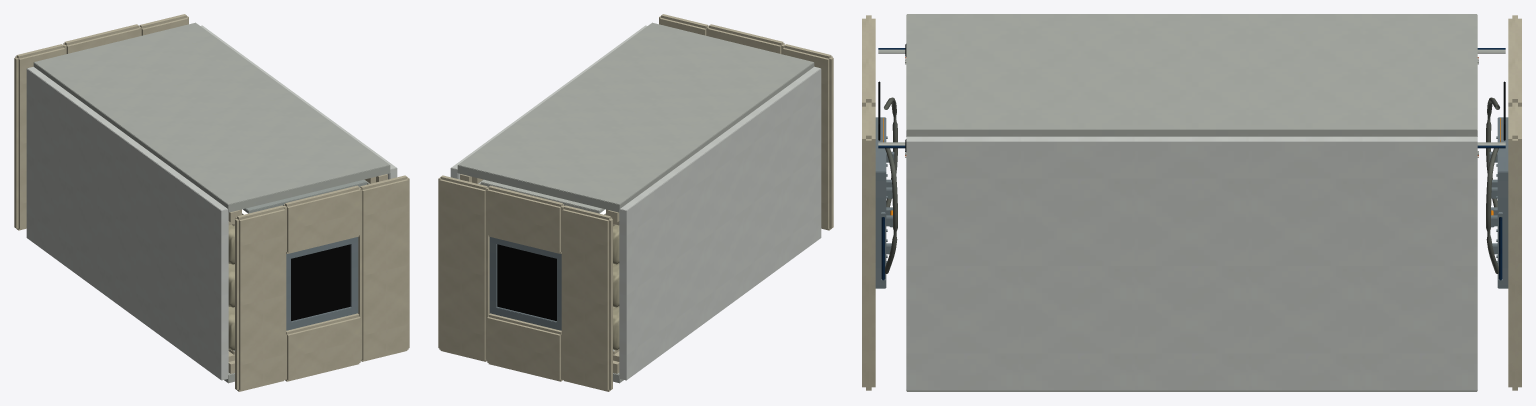
Rendered from leonardo.glb.
The picture shows the model from 3 angles, left to right: view 1: azimuth 30°, elevation 25°; view 2: azimuth 150°, elevation 25°; view 3: azimuth 270°, elevation 25°; orthographic projection. The views are drawn at different scales.
Parts seen in each view (by area): view 1: leonardo_detailed; view 2: leonardo_detailed; view 3: leonardo_detailed.
Boxes of the visible parts, left/top/right/bottom form: leonardo_detailed: left=14, top=14, right=409, bottom=391; leonardo_detailed: left=438, top=14, right=833, bottom=391; leonardo_detailed: left=862, top=14, right=1521, bottom=391.
Size of the model in its own units: 3.09 by 3 by 6.84.
Materials: 17 (14 with a texture image).
